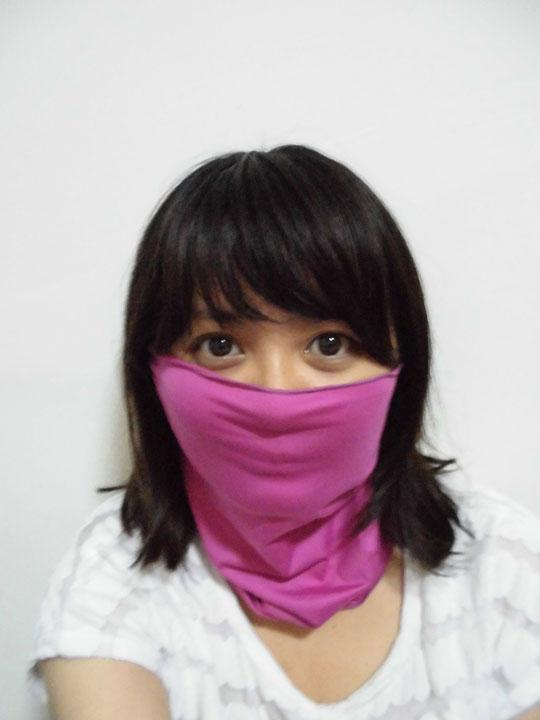OK: (169, 284, 412, 527)
